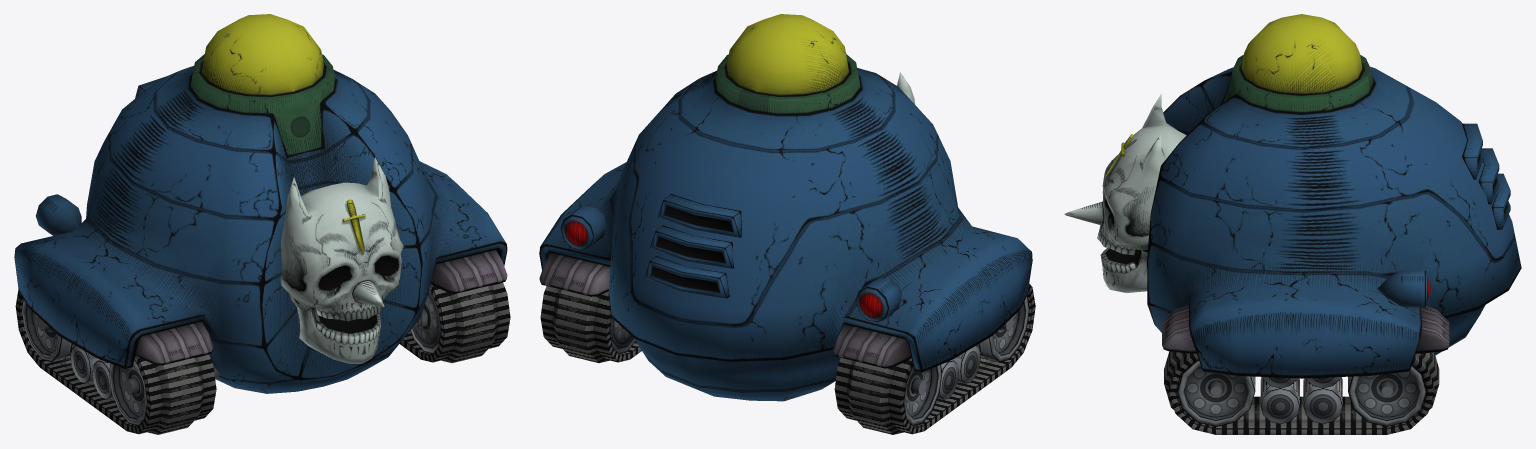
3 renders of one model, left to right at view 1: azimuth 30°, elevation 25°; view 2: azimuth 150°, elevation 25°; view 3: azimuth 270°, elevation 25°, orthographic. The views are drawn at different scales.
Visible parts, largest first — view 1: 4sha01t0 body, 4sha01t0 caterpillar 02; view 2: 4sha01t0 body, 4sha01t0 caterpillar 02; view 3: 4sha01t0 body, 4sha01t0 caterpillar 02.
Boxes of the visible parts, bbox=[...] form: 4sha01t0 body: bbox=[14, 14, 507, 425]; 4sha01t0 caterpillar 02: bbox=[15, 282, 510, 434]; 4sha01t0 body: bbox=[539, 14, 1032, 425]; 4sha01t0 caterpillar 02: bbox=[540, 284, 1035, 434]; 4sha01t0 body: bbox=[1064, 14, 1521, 426]; 4sha01t0 caterpillar 02: bbox=[1164, 351, 1439, 434].
Bounding box in the file's own units: 1238 × 983 × 1225.
3 materials, 2 textured.
